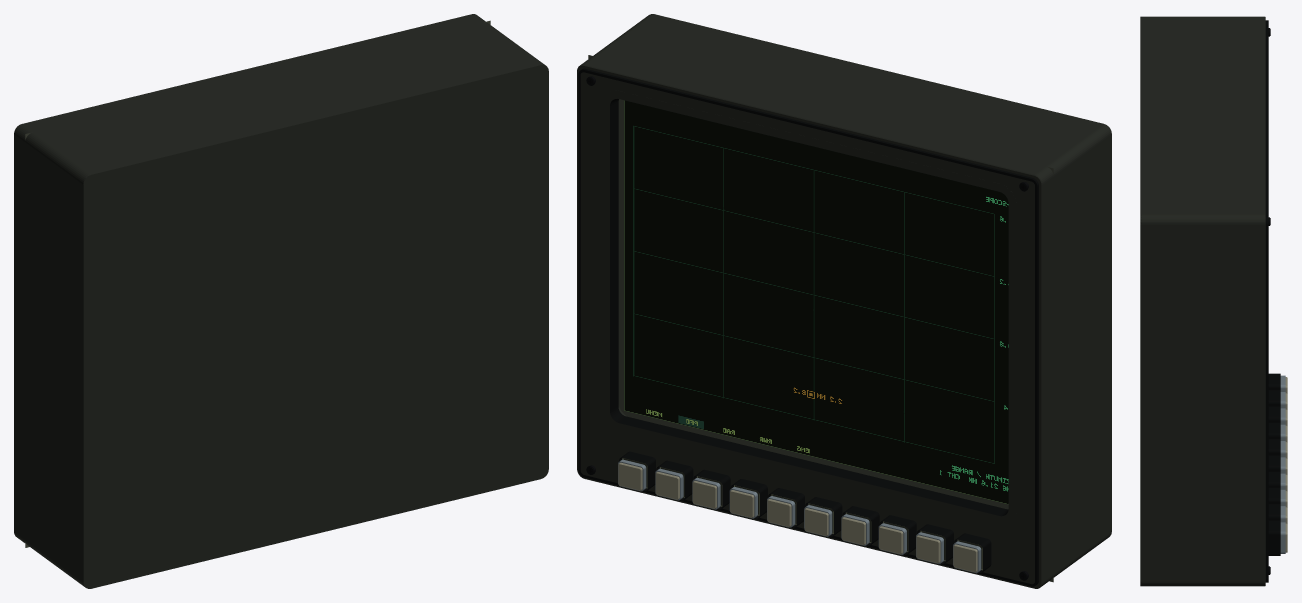
Rendered from MFDStudio.obj.
The picture shows the model from 3 angles, left to right: view 1: azimuth 30°, elevation 25°; view 2: azimuth 150°, elevation 25°; view 3: azimuth 270°, elevation 25°; orthographic projection. The views are drawn at different scales.
Parts seen in each view (by area): view 1: MFDStudioBody; view 2: MFDStudioBody, MFDStudioScreen; view 3: MFDStudioBody.
Part boxes in pixels (x1=…): MFDStudioBody: x1=14, y1=14, x2=548, y2=588; MFDStudioBody: x1=577, y1=14, x2=1111, y2=588; MFDStudioScreen: x1=588, y1=55, x2=1053, y2=582; MFDStudioBody: x1=1140, y1=16, x2=1287, y2=586.
Size of the model in its own units: 0.3 by 0.255 by 0.0915.
8 materials, 1 textured.
